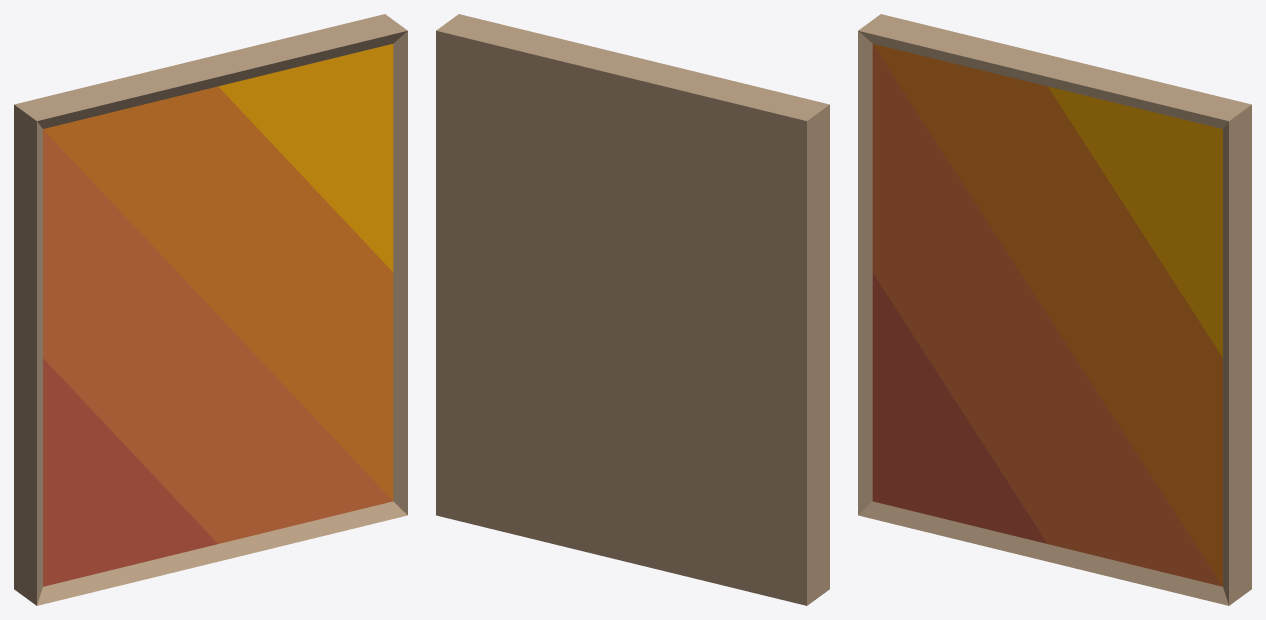
The model's file is Accesories_Frame_F.glb.
The picture shows the model from 3 angles, left to right: view 1: azimuth 30°, elevation 25°; view 2: azimuth 150°, elevation 25°; view 3: azimuth 330°, elevation 25°; orthographic projection.
Visible parts, largest first — view 1: Accesories_Frame_F; view 2: Accesories_Frame_F; view 3: Accesories_Frame_F.
Boxes of the visible parts, left/top/right/bottom form: Accesories_Frame_F: left=14, top=14, right=407, bottom=605; Accesories_Frame_F: left=436, top=14, right=829, bottom=605; Accesories_Frame_F: left=858, top=14, right=1251, bottom=605.
Size of the model in its own units: 0.3999 by 0.4993 by 0.0426.
1 material, 1 textured.
